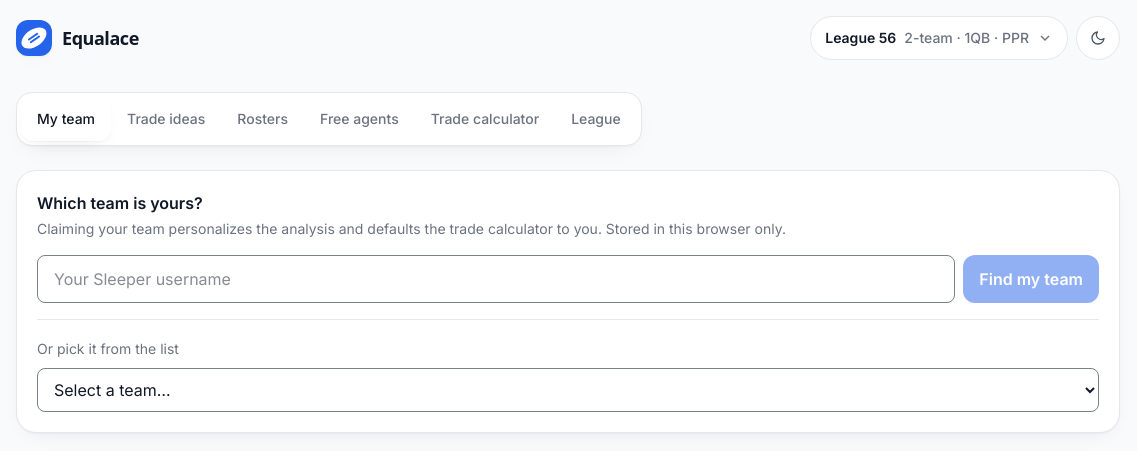
Scenario: App — a league that does not trade › explains the rule on the ideas tab, and points at what still works
Click the tab "Trade ideas".
click(166, 119)  # box top-left (111, 97), bottom-right (221, 141)
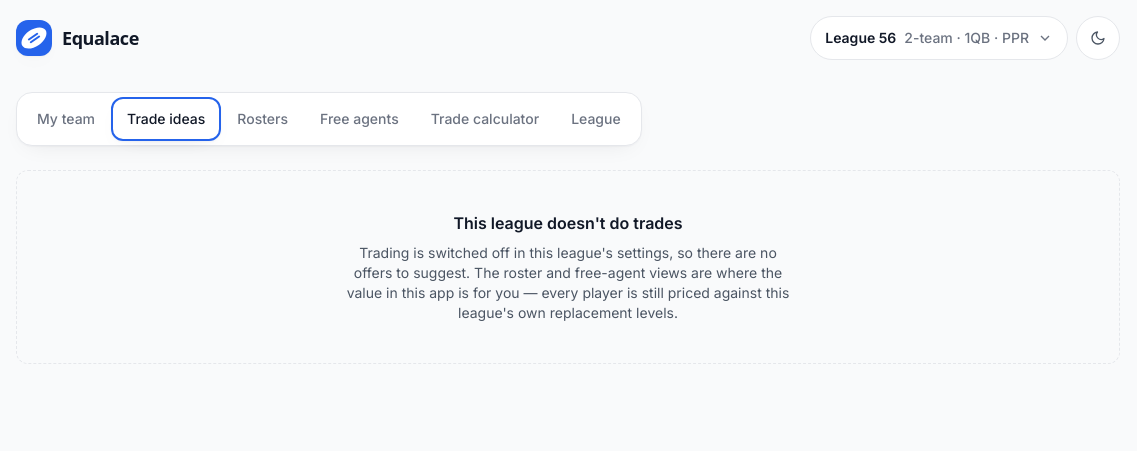
Expected: the text "This league doesn't do trades" is shown, top-left (453, 213), bottom-right (682, 233)
Expected: the text "roster and free-agent views" is shown, top-left (347, 244), bottom-right (789, 321)
